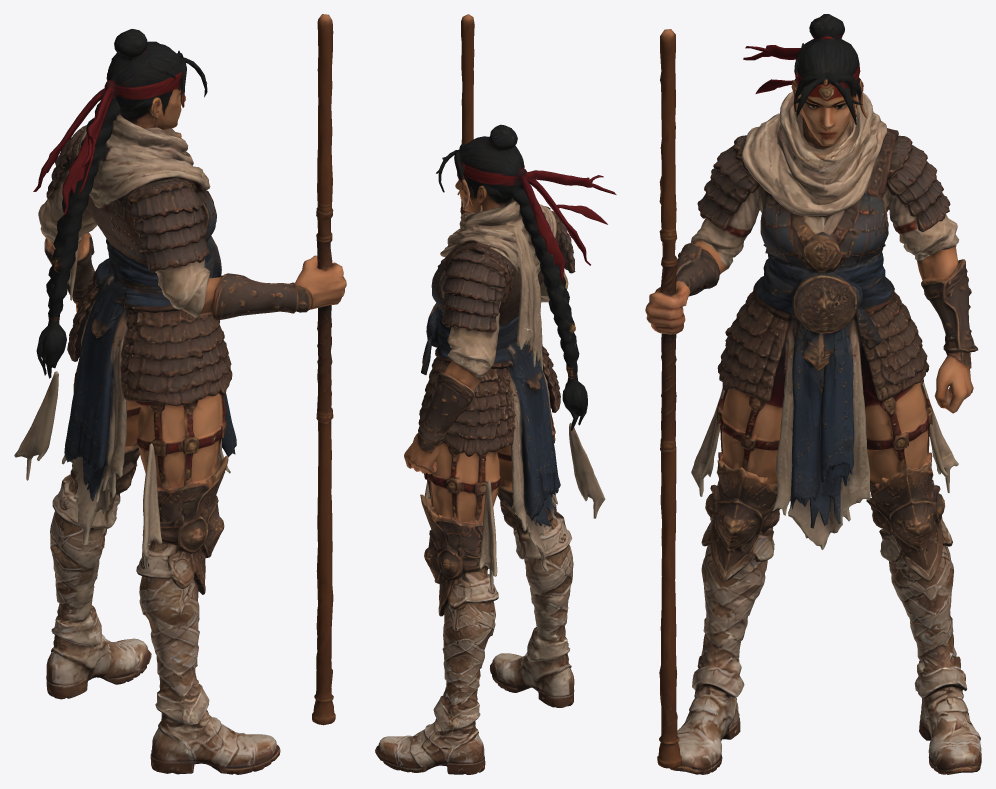
File: vanguardalt-SaltNomad-tripo.glb
The picture shows the model from 3 angles, left to right: view 1: azimuth 30°, elevation 25°; view 2: azimuth 150°, elevation 25°; view 3: azimuth 270°, elevation 25°; orthographic projection. The views are drawn at different scales.
Visible parts, largest first — view 1: tripo_node_9adf3acb-7706-431d-92e4-c763c150e8e5; view 2: tripo_node_9adf3acb-7706-431d-92e4-c763c150e8e5; view 3: tripo_node_9adf3acb-7706-431d-92e4-c763c150e8e5.
Part boxes in pixels (left/top/right/bottom): tripo_node_9adf3acb-7706-431d-92e4-c763c150e8e5: left=14, top=14, right=346, bottom=774; tripo_node_9adf3acb-7706-431d-92e4-c763c150e8e5: left=375, top=14, right=616, bottom=774; tripo_node_9adf3acb-7706-431d-92e4-c763c150e8e5: left=645, top=14, right=981, bottom=774.
Bounding box in the file's own units: 0.3228 × 1 × 0.3948.
1 material, 1 textured.
